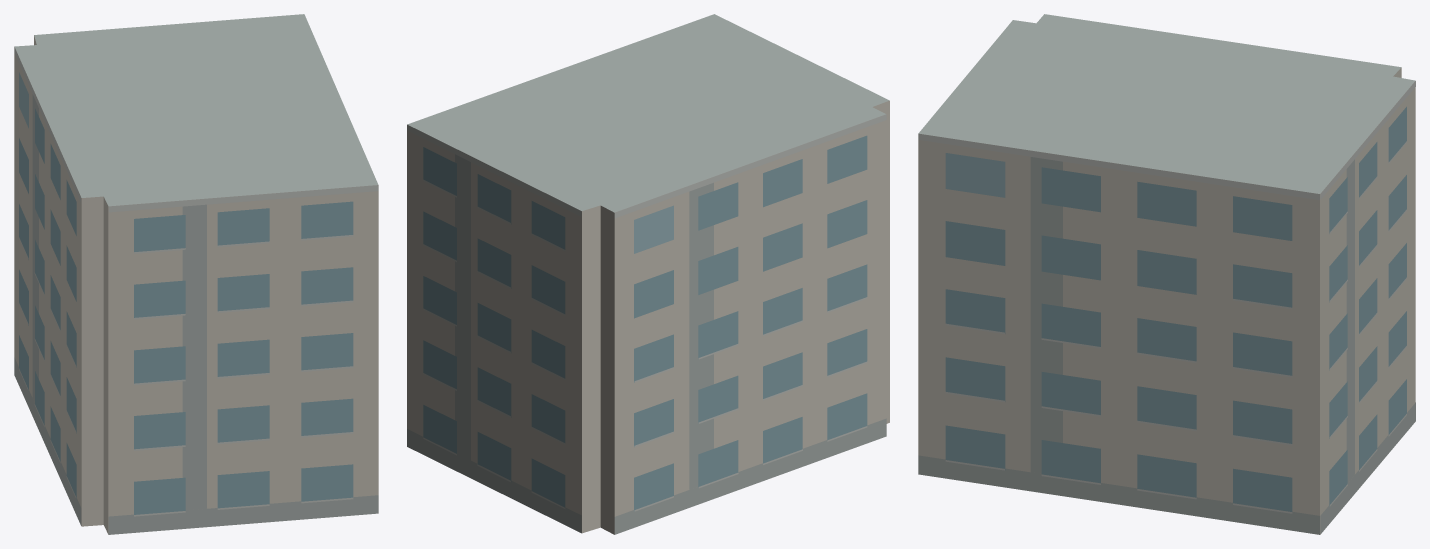
File: survey-upis-32894282.glb
The picture shows the model from 3 angles, left to right: view 1: azimuth 30°, elevation 25°; view 2: azimuth 150°, elevation 25°; view 3: azimuth 270°, elevation 25°; orthographic projection. The views are drawn at different scales.
Visible parts, largest first — view 1: survey-upis-32894282.tmp; view 2: survey-upis-32894282.tmp; view 3: survey-upis-32894282.tmp.
Boxes of the visible parts, left/top/right/bottom form: survey-upis-32894282.tmp: left=14, top=14, right=378, bottom=534; survey-upis-32894282.tmp: left=407, top=14, right=889, bottom=534; survey-upis-32894282.tmp: left=918, top=14, right=1415, bottom=534.
Bounding box in the file's own units: 14.97 × 13.2 × 17.47.
